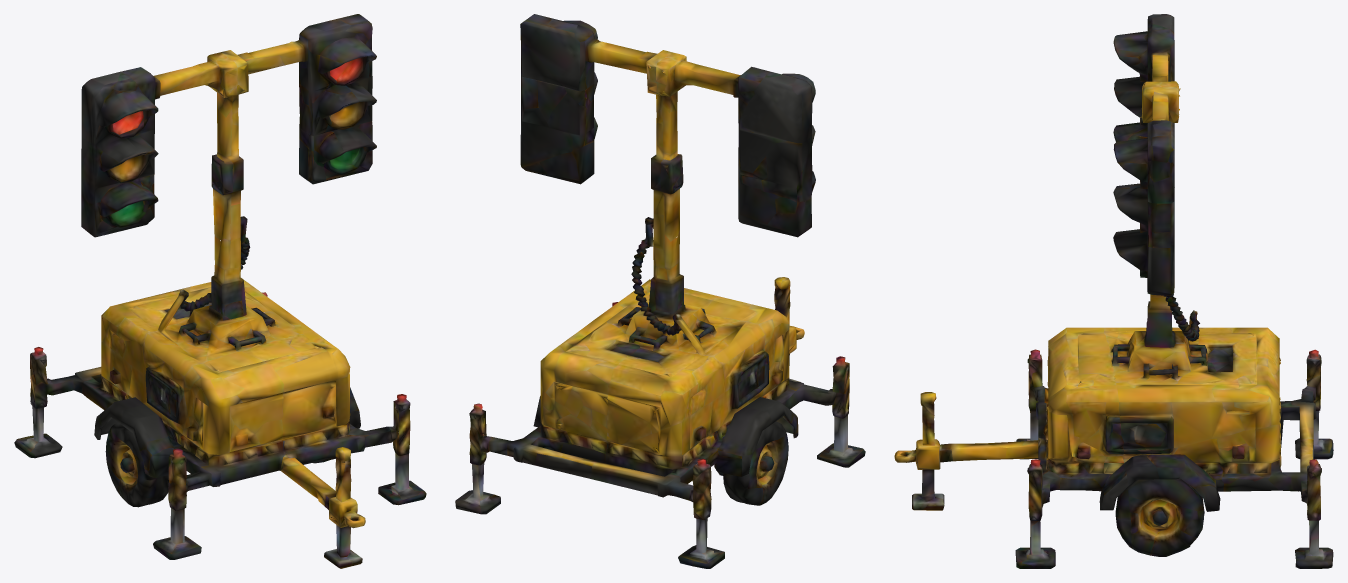
The model's file is veh-lightworks.glb.
The picture shows the model from 3 angles, left to right: view 1: azimuth 30°, elevation 25°; view 2: azimuth 150°, elevation 25°; view 3: azimuth 270°, elevation 25°; orthographic projection.
Parts seen in each view (by area): view 1: tripo_node_c11b7090-480d-463a-93b6-cd9e2159f926; view 2: tripo_node_c11b7090-480d-463a-93b6-cd9e2159f926; view 3: tripo_node_c11b7090-480d-463a-93b6-cd9e2159f926.
Boxes of the visible parts, x1,y1,x2,y2 form: tripo_node_c11b7090-480d-463a-93b6-cd9e2159f926: (14, 14, 426, 568); tripo_node_c11b7090-480d-463a-93b6-cd9e2159f926: (455, 14, 865, 568); tripo_node_c11b7090-480d-463a-93b6-cd9e2159f926: (894, 14, 1333, 568).
Bounding box in the file's own units: 0.6745 × 0.9789 × 0.9058.
1 material, 1 textured.
